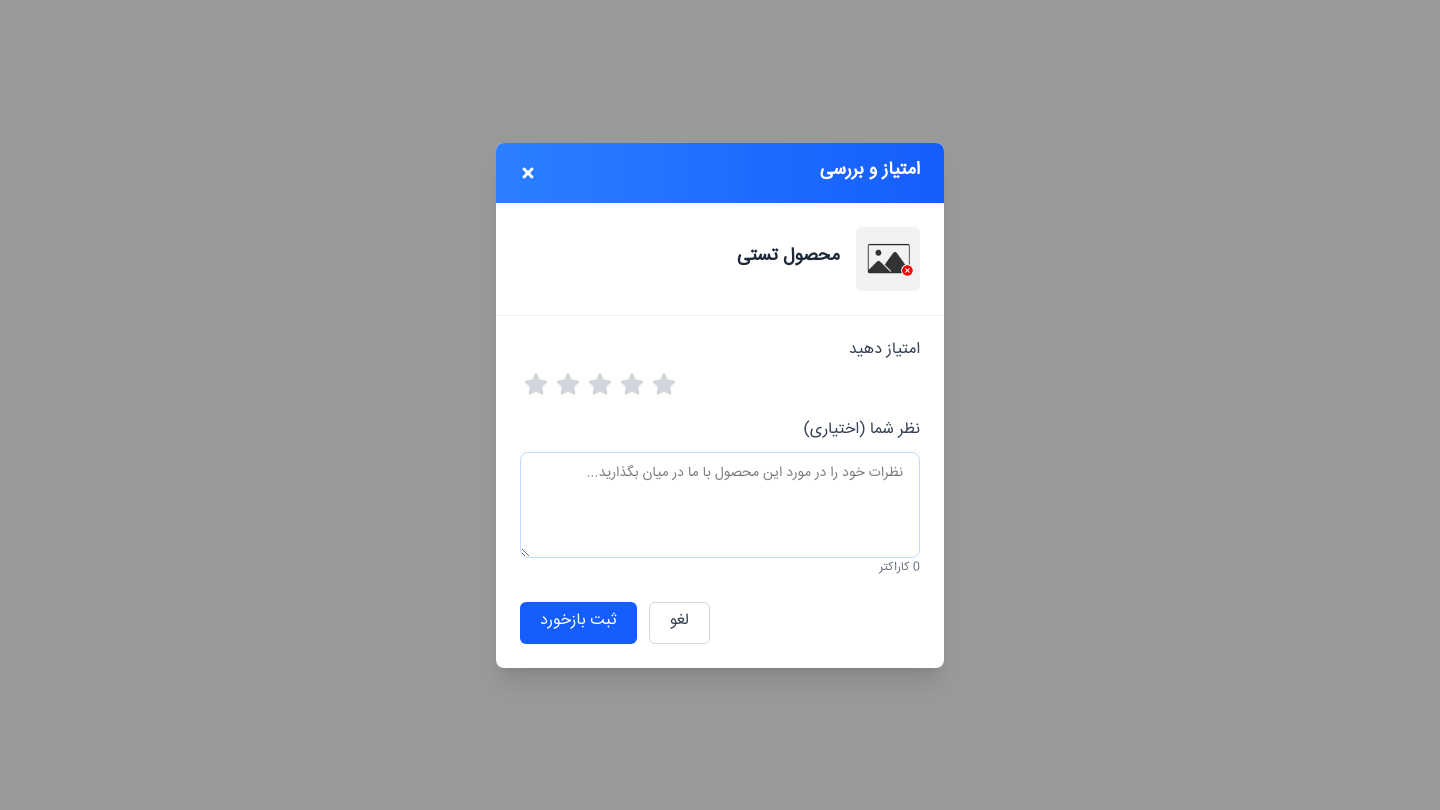
Test case: ProductReview Component › shows error if submitting empty form
Click the button "ثبت بازخورد".
click(578, 622)  # box [520,602,637,644]
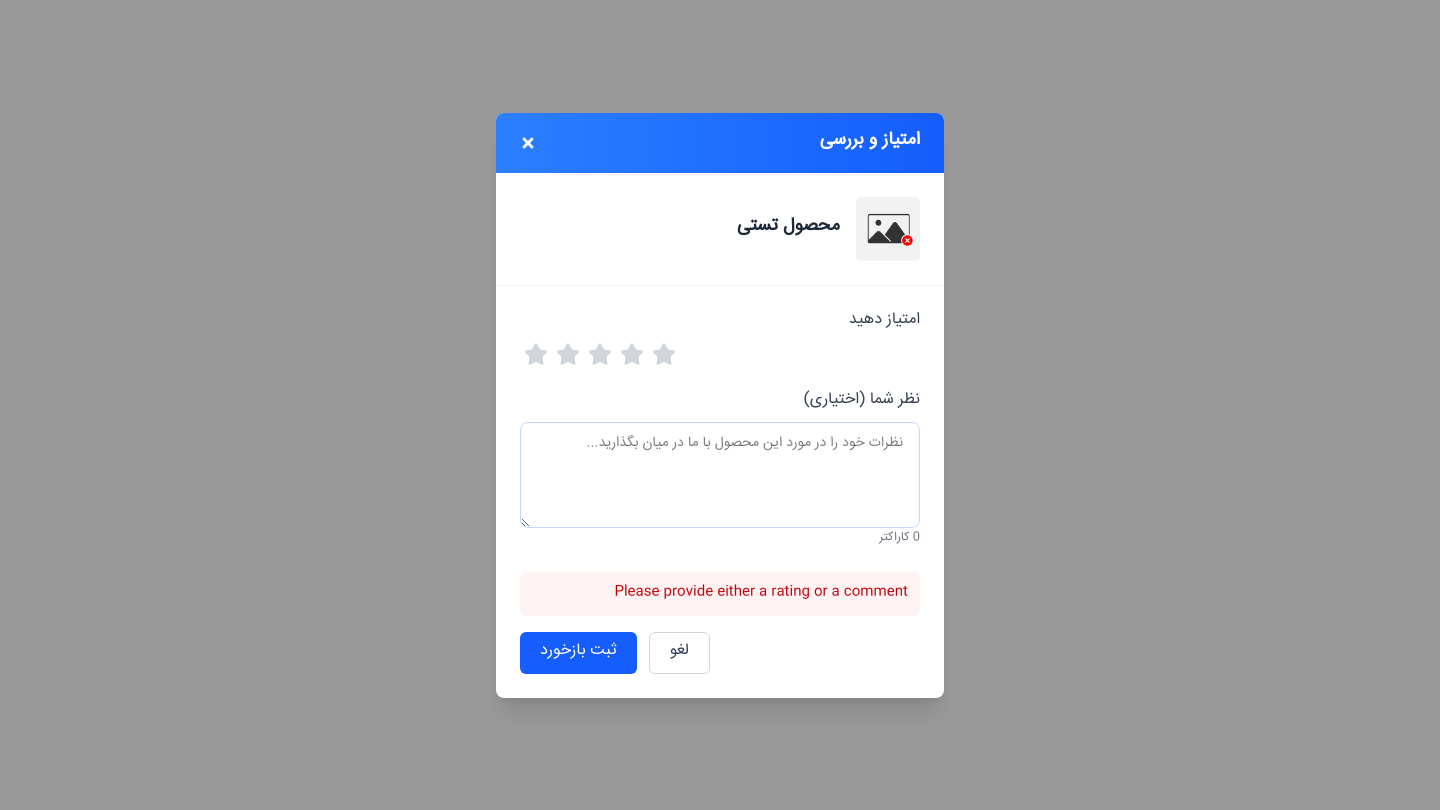
Expected: the text "Please provide either a rating or a comment" is shown, [614,582,908,604]
